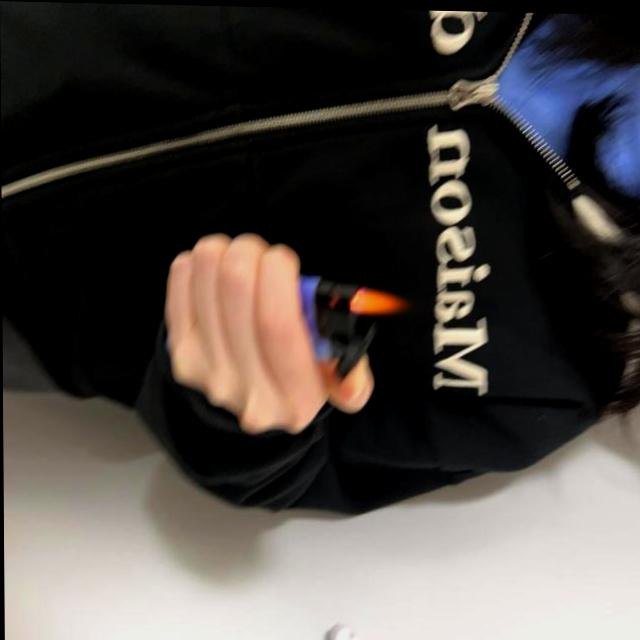helmet: (350, 283, 411, 314)
